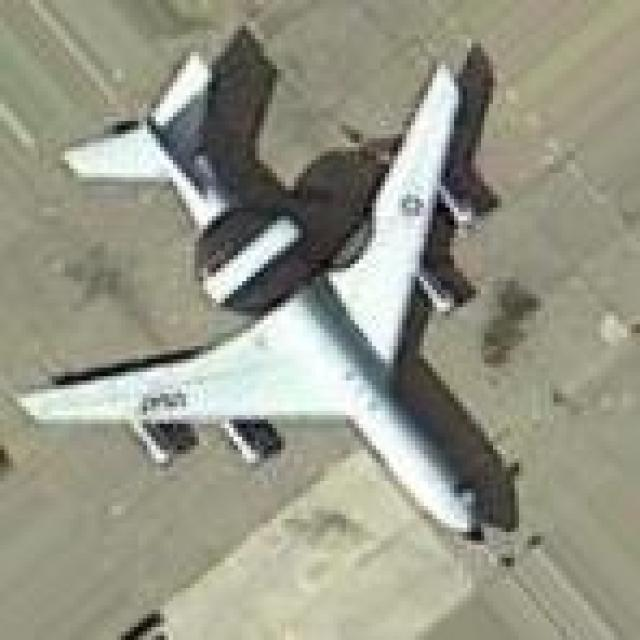E-3_TopDown: (9, 22, 528, 544)
